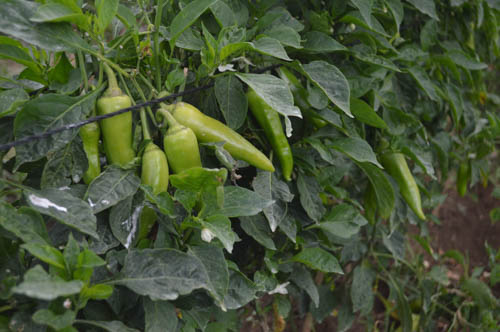ChiliPepper: (173, 105, 273, 170), (247, 93, 297, 182), (380, 151, 429, 221), (96, 97, 135, 166), (139, 153, 166, 244), (162, 131, 202, 174), (76, 123, 102, 184)
